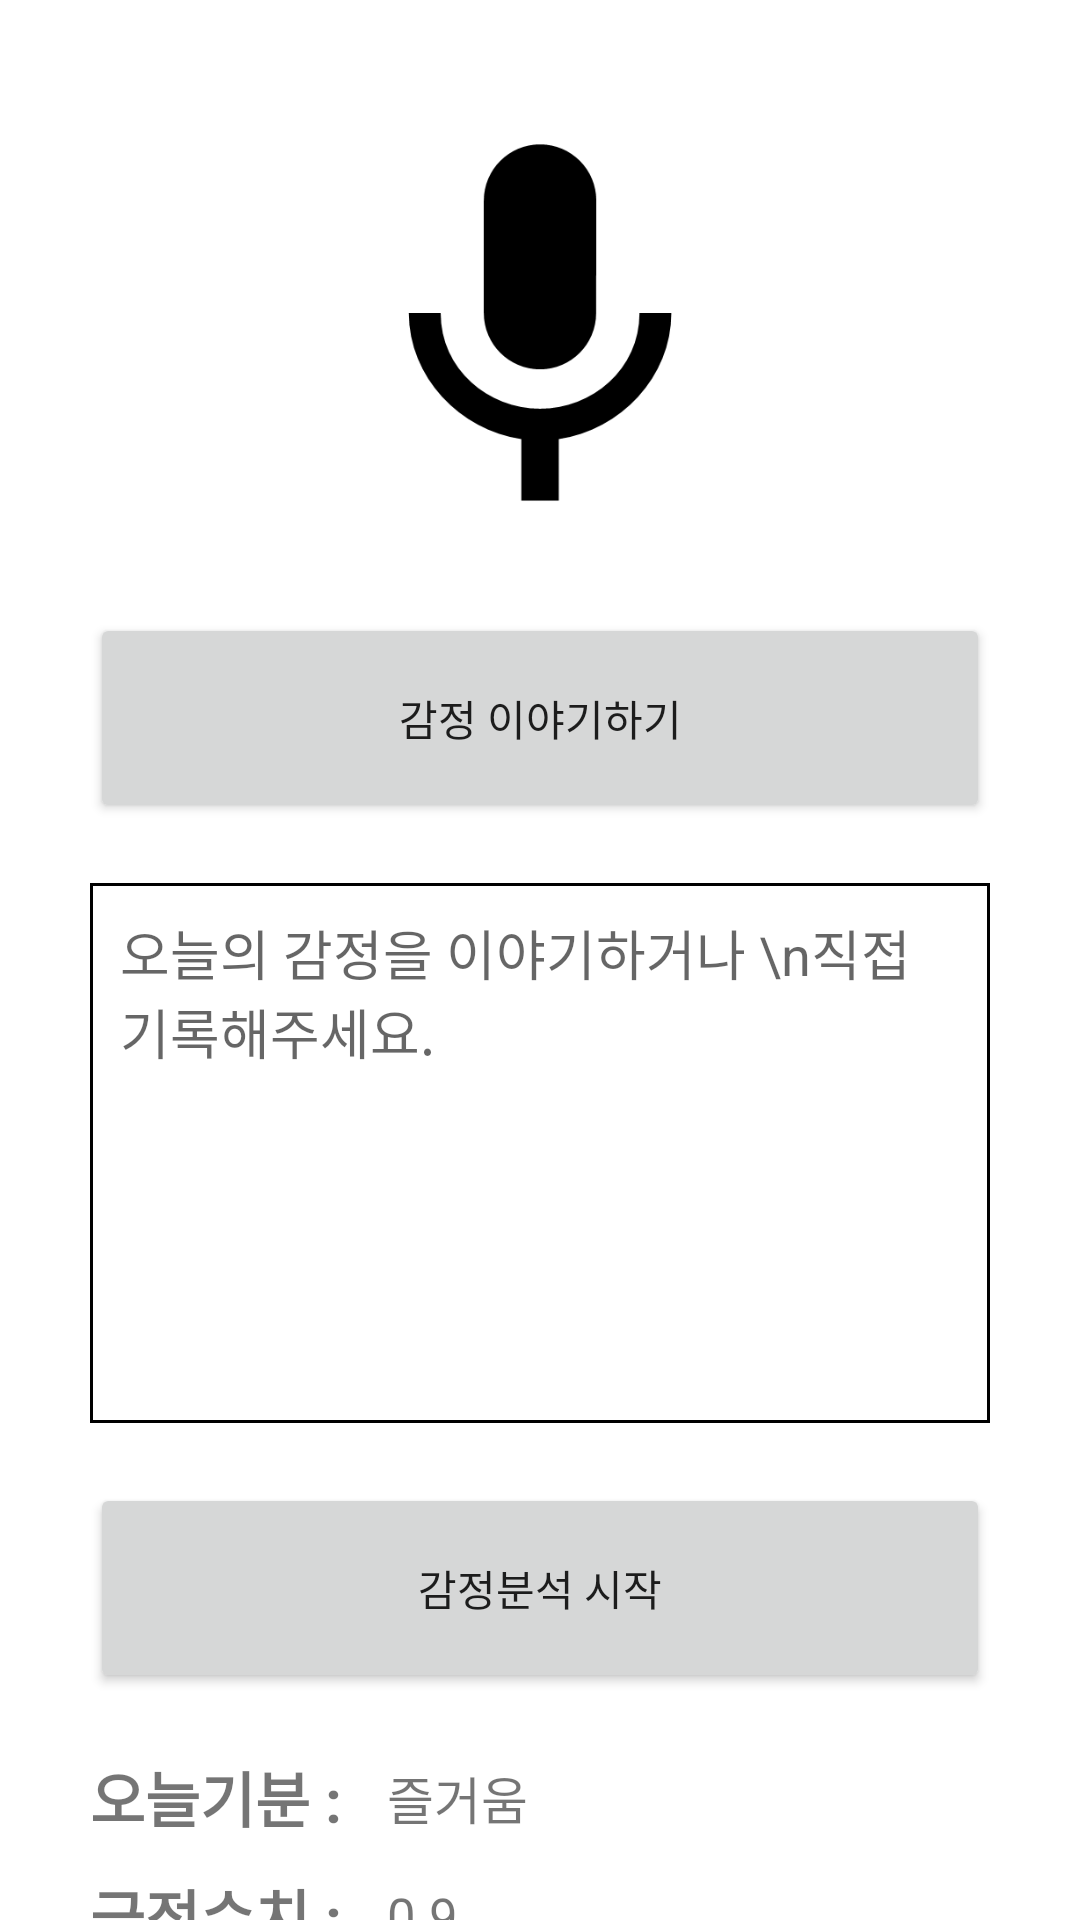

Icons on this 1080px×1920px Android screen, each with its box as bbox(x1, y1, x2, y2):
voice record: bbox(408, 144, 672, 501)
